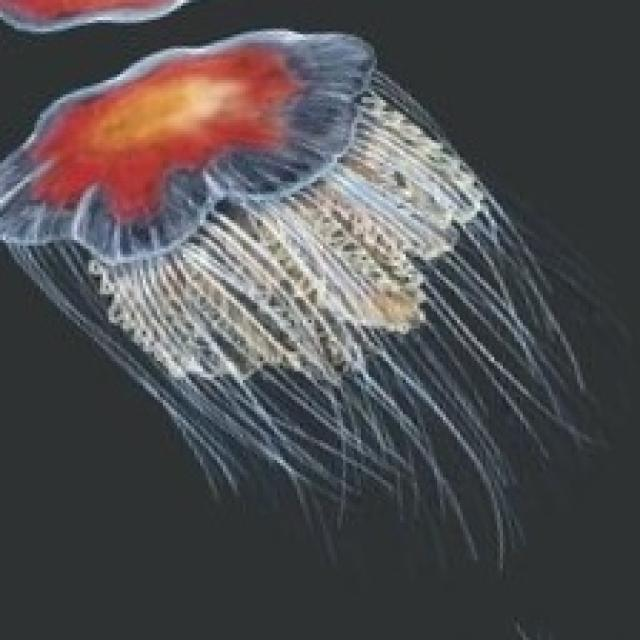Moon-jellyfish: (0, 22, 614, 571)
